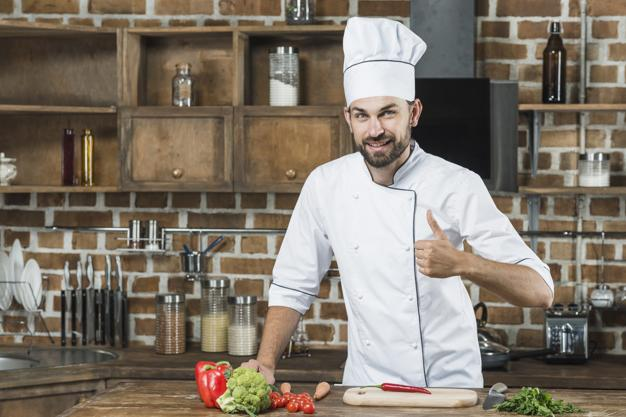thumbsup: (414, 209, 447, 279)
